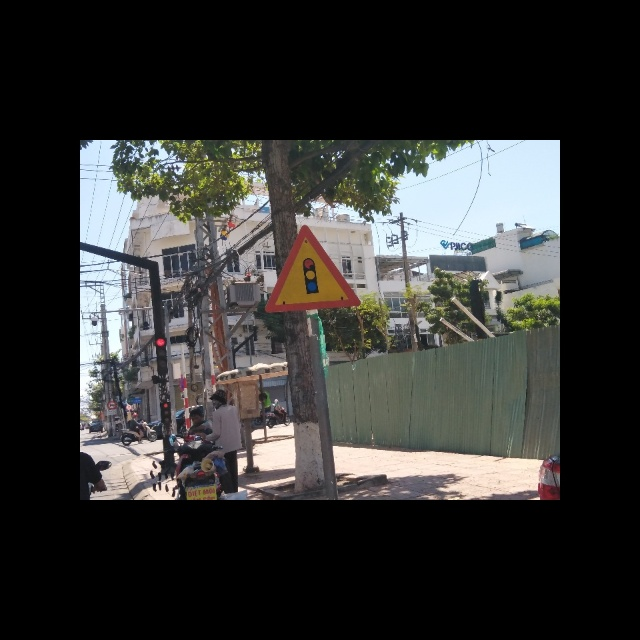Giao nhau có tín hiệu đèn: (264, 221, 364, 311)
